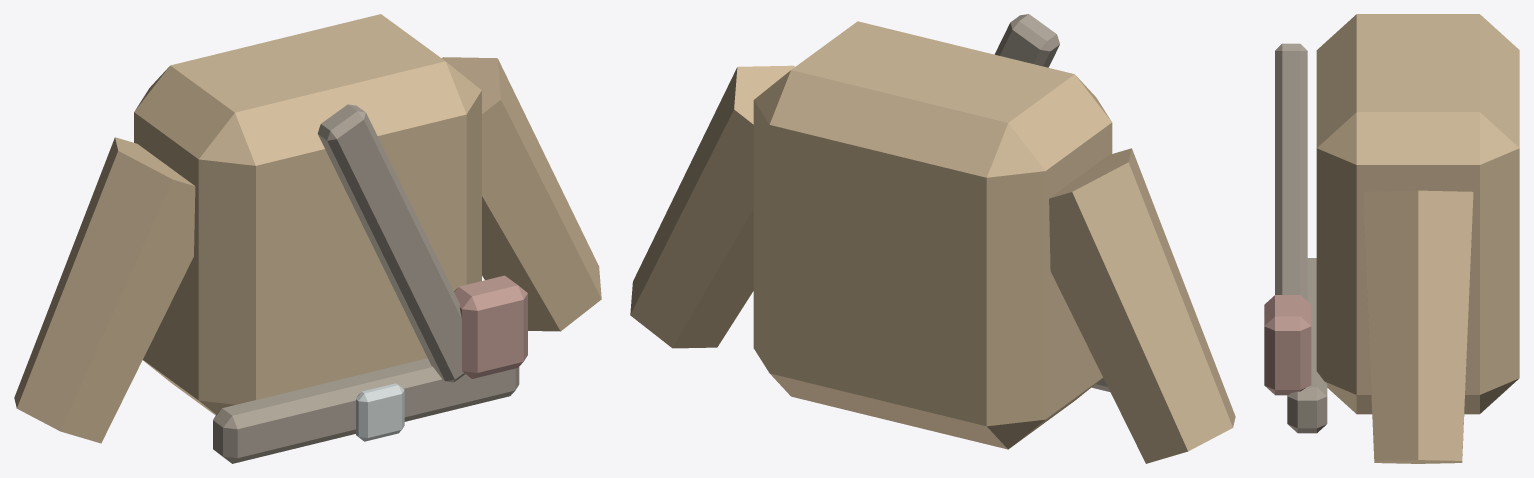
The model's file is SM_NPC_Top_02_Archer.glb.
3 renders of one model, left to right at view 1: azimuth 30°, elevation 25°; view 2: azimuth 150°, elevation 25°; view 3: azimuth 270°, elevation 25°, orthographic. The views are drawn at different scales.
Parts seen in each view (by area): view 1: SM_NPC_Top_02_Archer; view 2: SM_NPC_Top_02_Archer; view 3: SM_NPC_Top_02_Archer.
Part boxes in pixels (x1=…): SM_NPC_Top_02_Archer: x1=14, y1=14, x2=601, y2=463; SM_NPC_Top_02_Archer: x1=630, y1=14, x2=1235, y2=463; SM_NPC_Top_02_Archer: x1=1264, y1=14, x2=1519, y2=463.
Size of the model in its own units: 0.8845 by 0.4789 by 0.3525.
